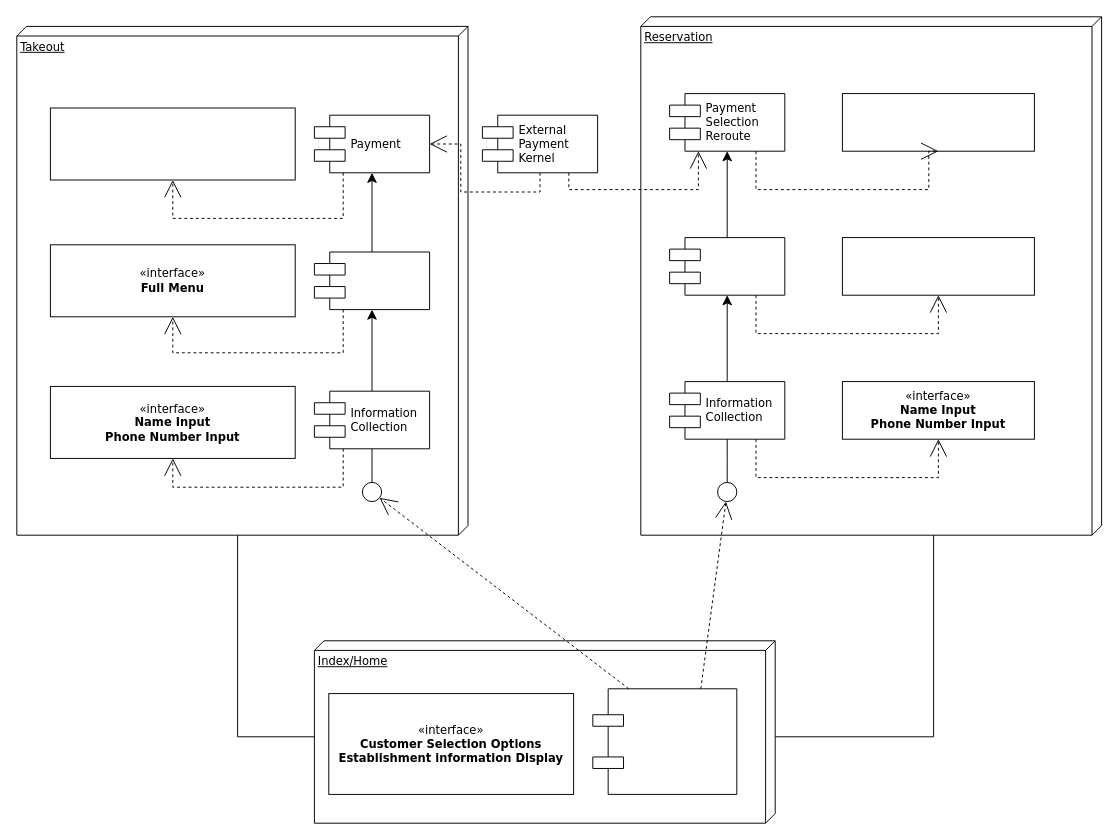
Some shapes in this 1118 by 840 pixel diagram are drawn without their labels. The centre of each missing label's shape, as x and y in pixels:
Customer Selections: point (664, 741)
Dine Selection Reroute: point (727, 266)
Menu Item Selection: point (371, 280)
«interface» Dine Confirmation: point (937, 266)
«interface» Payment: point (172, 143)
«interface» Payment Confirmation: point (937, 122)
